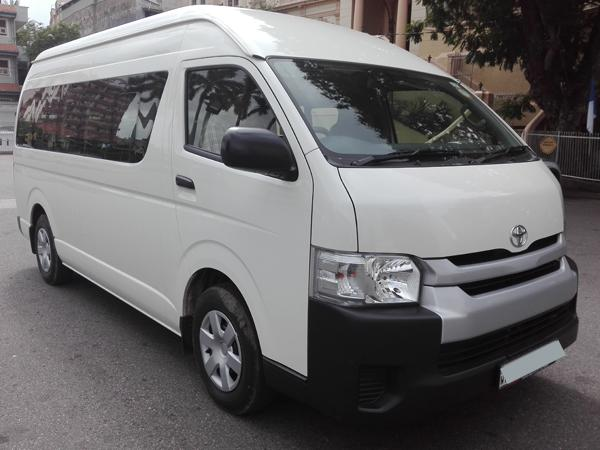van: (11, 4, 580, 418)
